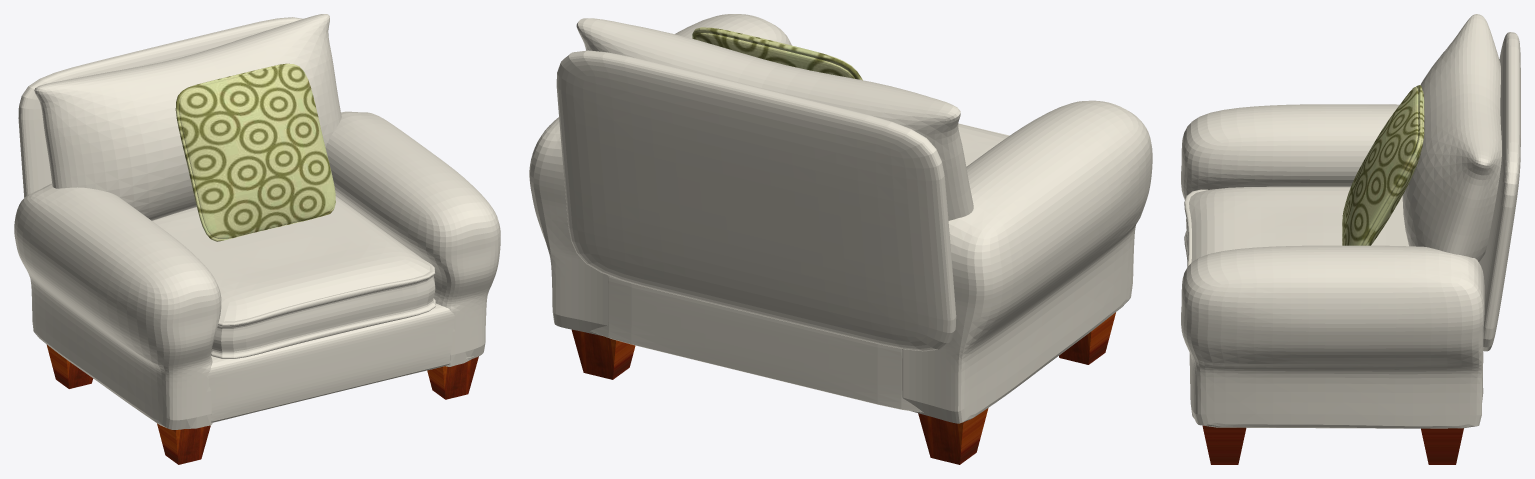
The model's file is sweethome3d-contributions-armchair-261.glb.
3 views of the same model, side by side, from view 1: azimuth 30°, elevation 25°; view 2: azimuth 150°, elevation 25°; view 3: azimuth 270°, elevation 25° (orthographic). The views are drawn at different scales.
Visible parts, largest first — view 1: PolyMesh_3, PolyMesh_1, PolyMesh_4, PolyMesh_2_1, PolyMesh_3_1, PolyMesh_2, PolyMesh_1_1, PolyMesh_5_1, PolyMesh_5_2, PolyMesh_5; view 2: PolyMesh_1_1, PolyMesh_3, PolyMesh_2, PolyMesh_1, PolyMesh_3_1, PolyMesh_2_1, PolyMesh_5, PolyMesh_5_3, PolyMesh_5_1, PolyMesh_4; view 3: PolyMesh_3_1, PolyMesh_1, PolyMesh_3, PolyMesh_4, PolyMesh_2_1, PolyMesh_1_1, PolyMesh_5_2, PolyMesh_5_3.
Part boxes in pixels (bbox=[...]): PolyMesh_3: bbox=[14, 183, 221, 429]; PolyMesh_1: bbox=[34, 14, 341, 220]; PolyMesh_4: bbox=[152, 196, 435, 358]; PolyMesh_2_1: bbox=[175, 63, 335, 241]; PolyMesh_3_1: bbox=[325, 111, 500, 366]; PolyMesh_2: bbox=[192, 303, 473, 425]; PolyMesh_1_1: bbox=[18, 17, 303, 197]; PolyMesh_5_1: bbox=[157, 423, 210, 464]; PolyMesh_5_2: bbox=[427, 356, 478, 399]; PolyMesh_5: bbox=[47, 345, 93, 388]; PolyMesh_1_1: bbox=[556, 50, 956, 351]; PolyMesh_3: bbox=[902, 100, 1152, 423]; PolyMesh_2: bbox=[590, 276, 923, 412]; PolyMesh_1: bbox=[576, 18, 973, 220]; PolyMesh_3_1: bbox=[529, 14, 791, 335]; PolyMesh_2_1: bbox=[692, 27, 862, 80]; PolyMesh_5: bbox=[918, 408, 988, 464]; PolyMesh_5_3: bbox=[571, 329, 635, 379]; PolyMesh_5_1: bbox=[1059, 312, 1115, 364]; PolyMesh_4: bbox=[958, 123, 1009, 166]; PolyMesh_3_1: bbox=[1181, 245, 1484, 428]; PolyMesh_1: bbox=[1402, 14, 1501, 261]; PolyMesh_3: bbox=[1181, 104, 1399, 199]; PolyMesh_4: bbox=[1184, 186, 1408, 266]; PolyMesh_2_1: bbox=[1342, 85, 1424, 245]; PolyMesh_1_1: bbox=[1479, 32, 1520, 351]; PolyMesh_5_2: bbox=[1202, 425, 1246, 464]; PolyMesh_5_3: bbox=[1421, 428, 1463, 464].
Size of the model in its own units: 3.32 by 2.46 by 2.53.
3 materials, 2 textured.
